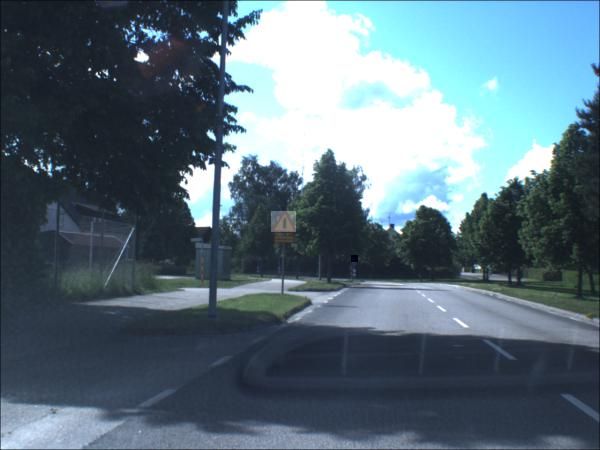PASS_RIGHT_SIDE: (351, 257, 359, 265)
WARNING: (271, 212, 297, 234)
